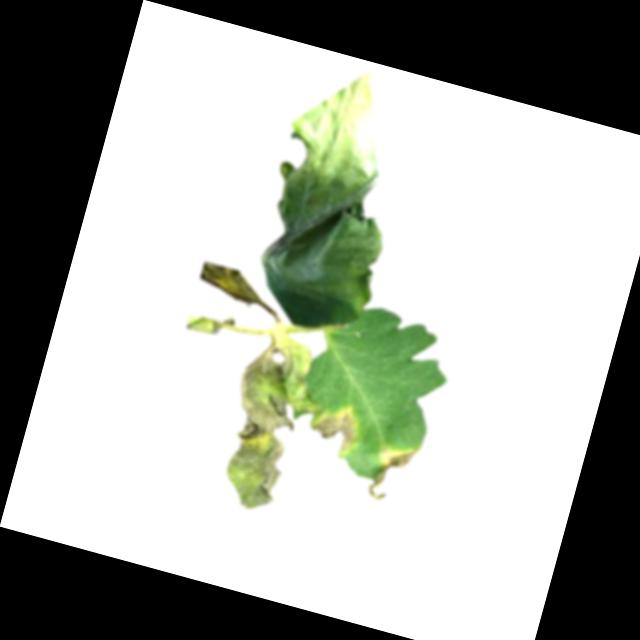Late_blight: (236, 53, 429, 345), (209, 332, 334, 518), (364, 439, 416, 507), (309, 398, 364, 457)
